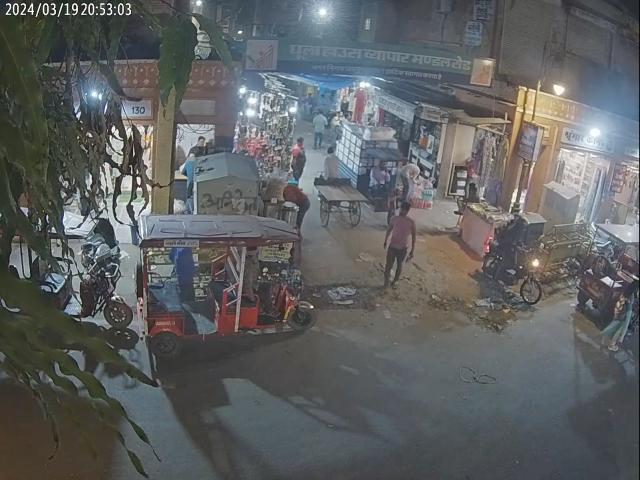auto: (130, 208, 324, 351), (0, 213, 136, 338), (572, 221, 640, 316)
motorbike-rider: (77, 216, 125, 320)
person: (383, 203, 420, 287)
